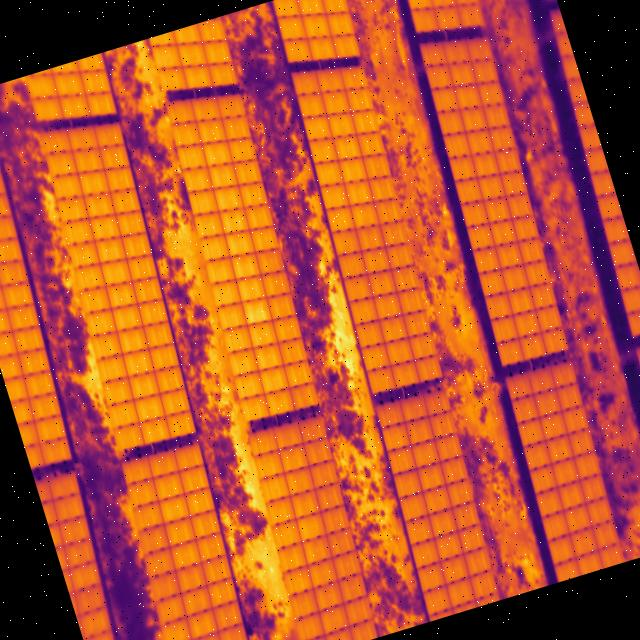Hotspot: (242, 298, 272, 324)
